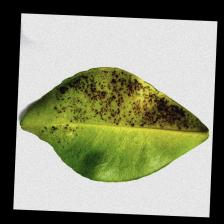canker: (55, 70, 190, 128)
